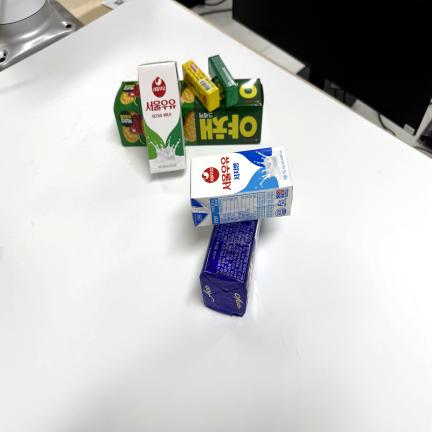cracker_ace: (200, 220, 261, 316)
cracker_vege: (180, 79, 264, 145), (114, 81, 146, 146)
gum_green: (208, 55, 238, 107)
gum_yellow: (182, 60, 219, 111)
milk_blue: (190, 146, 292, 226)
milk_green: (138, 61, 186, 173)
